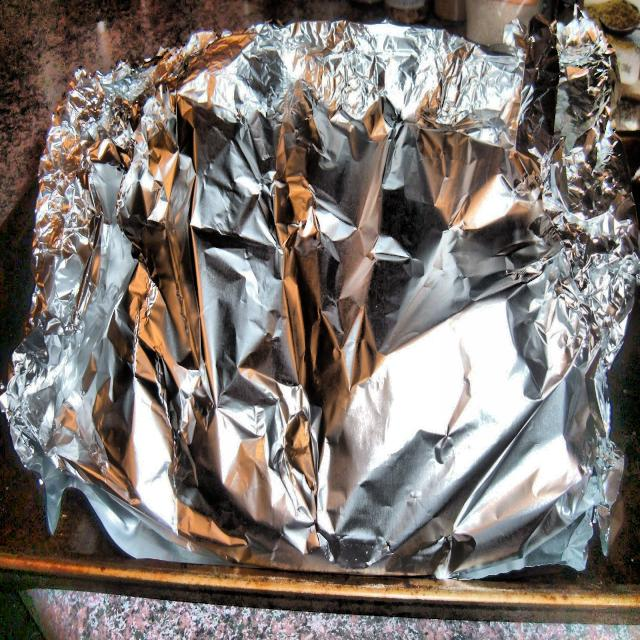Foil: (0, 11, 640, 589)
